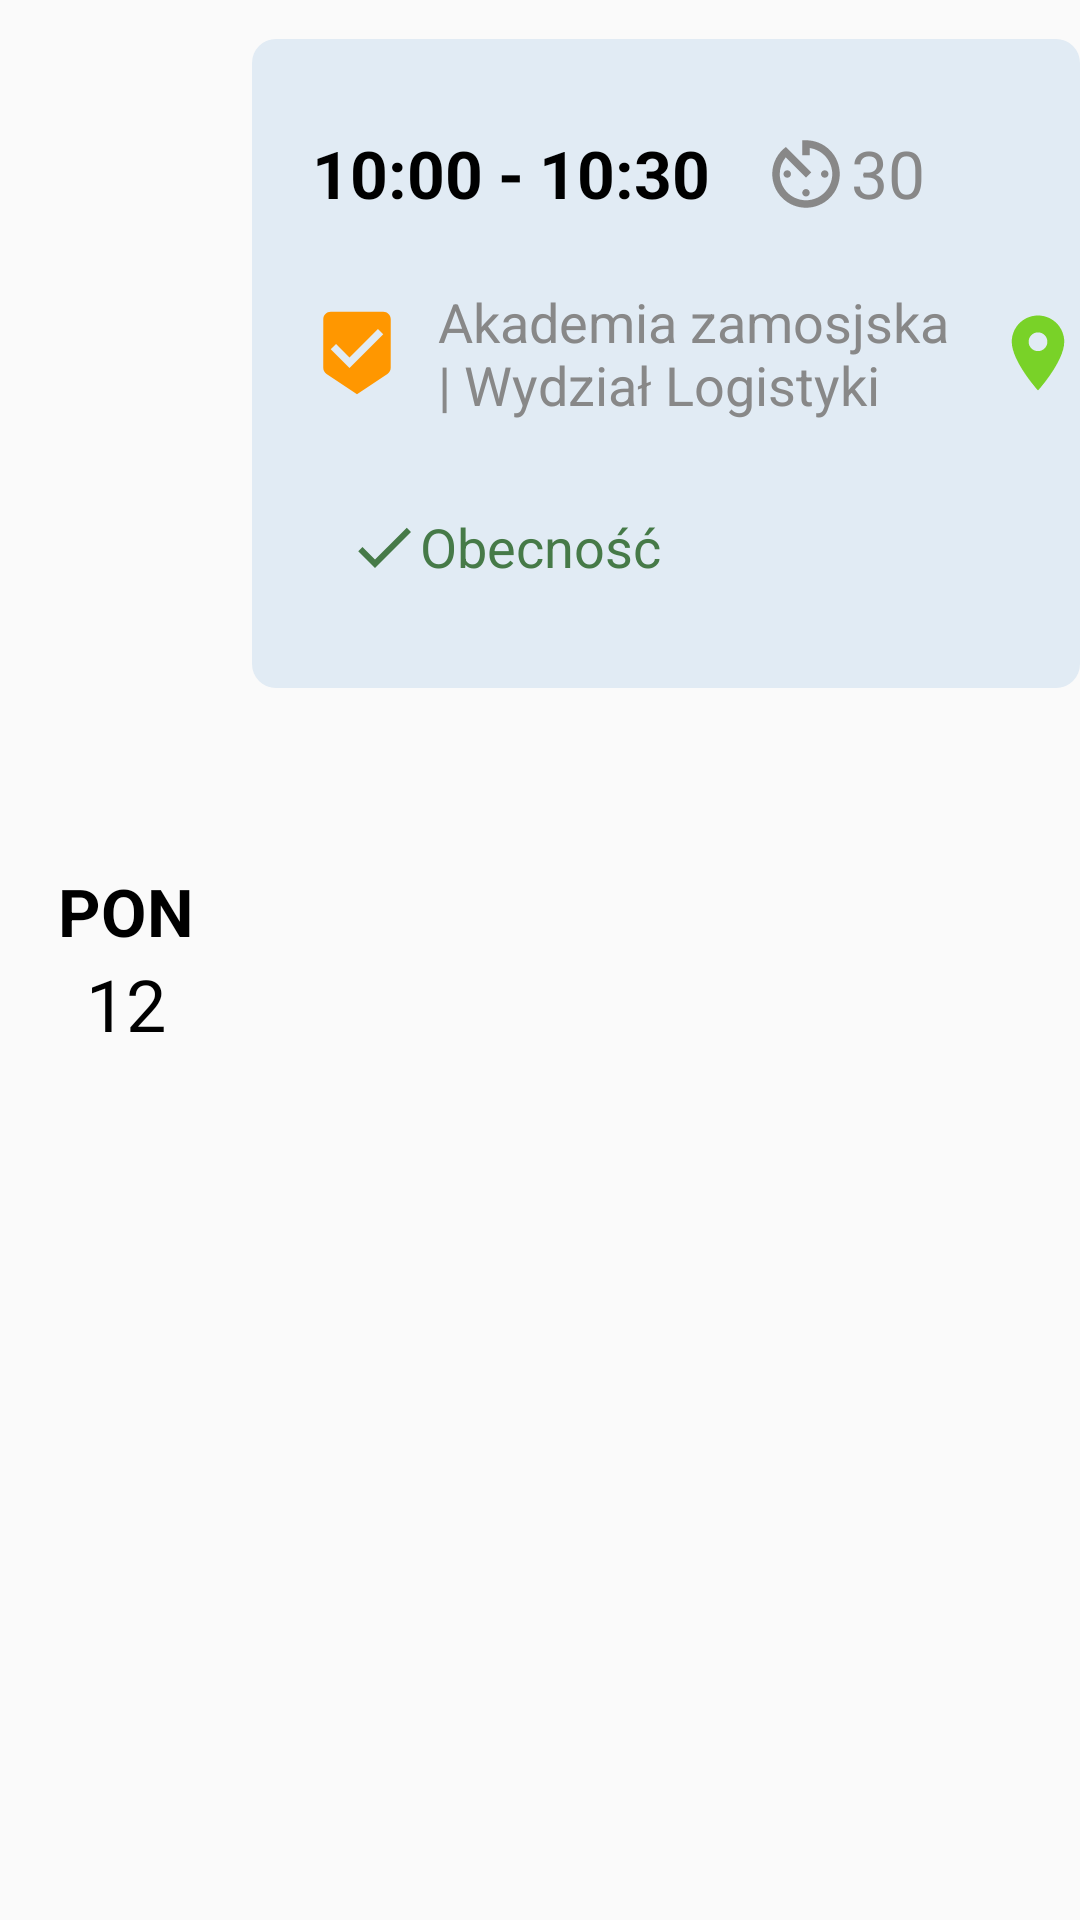

Named icons in this screenshot (1080*1920) and their centers, (x,y):
av timer: (806,174)
beenhere: (357,352)
check: (384,548)
location on: (1038,352)
